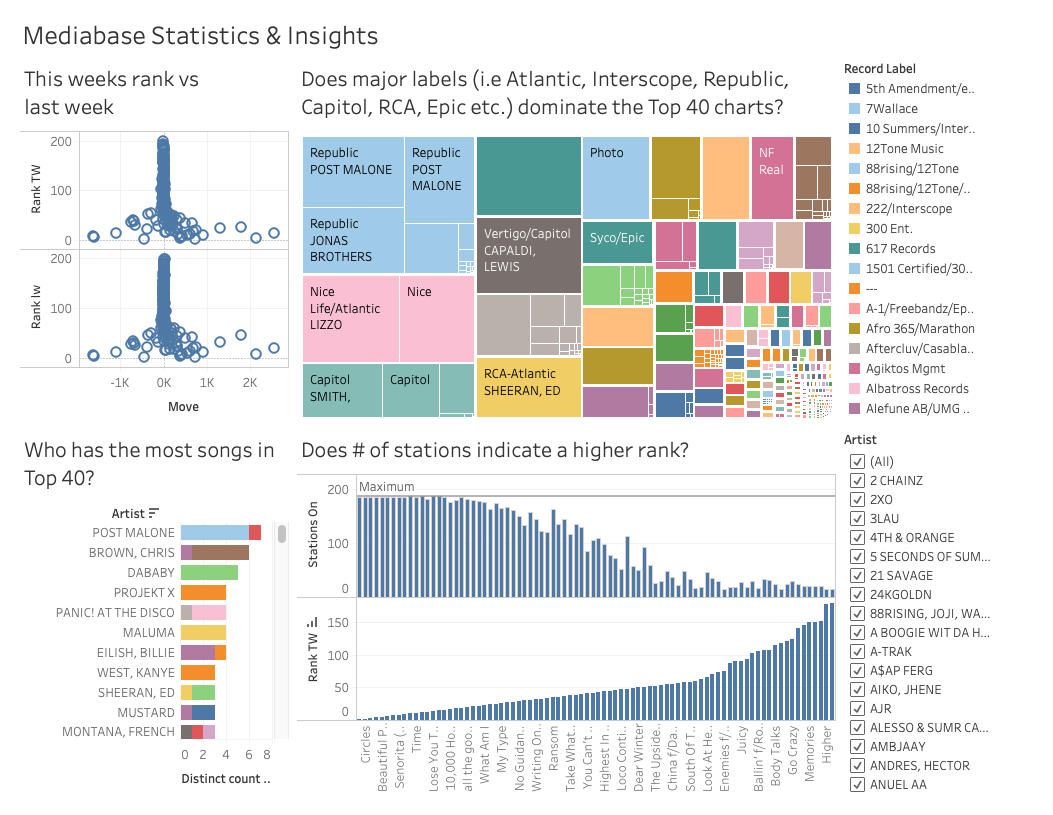

Layout of this report page (visuals, bound fields, positions):
{"tool":"tableau","page":{"name":"Dashboard 1","canvas":[1000,800],"ordinal":0},"visuals":[{"type":"worksheet","box":[0,0,1000,800]},{"type":"worksheet","param":"vert","box":[8,8,984,784]},{"type":"worksheet","box":[8,8,984,42]},{"type":"worksheet","param":"horz","box":[8,50,984,742]},{"type":"worksheet","box":[8,50,824,742]},{"type":"worksheet","title":"Sheet 1","mark":"Automatic","rows":["Rank TW","Rank lw"],"cols":["Move"],"box":[8,50,277,371]},{"type":"worksheet","title":"Sheet 5","mark":"Square","box":[285,50,547,371]},{"type":"worksheet","param":"vert","box":[832,50,160,742]},{"type":"worksheet","title":"Sheet 5","mark":"Square","param":"[federated.0wviove1pnvzdi18t1mbn1lcefj2].[none:Label:nk]","box":[832,50,160,371]},{"type":"worksheet","title":"Sheet 3","mark":"Automatic","rows":["Artist"],"cols":["Title"],"box":[8,421,277,371]},{"type":"worksheet","title":"Sheet 4","mark":"Automatic","rows":["StationsOn","Rank TW"],"cols":["Title"],"box":[285,421,547,371]},{"type":"worksheet","title":"Sheet 3","mark":"Automatic","rows":["Artist"],"cols":["Title"],"param":"[federated.0wviove1pnvzdi18t1mbn1lcefj2].[none:Artist:nk]","box":[832,421,160,371]}]}

Visuals, with their boxes on the page's 1000x800 design canvas (x1, y1, x2, y2). These are canvas units, not pixel positions in the 1053x815 screenshot, which may show the page scaled, cropped or inside an application window:
worksheet: bbox=(0, 0, 1000, 800)
worksheet: bbox=(8, 8, 992, 792)
worksheet: bbox=(8, 8, 992, 50)
worksheet: bbox=(8, 50, 992, 792)
worksheet: bbox=(8, 50, 832, 792)
"Sheet 1" worksheet: bbox=(8, 50, 285, 421)
"Sheet 5" worksheet (Square marks): bbox=(285, 50, 832, 421)
worksheet: bbox=(832, 50, 992, 792)
"Sheet 5" worksheet (Square marks): bbox=(832, 50, 992, 421)
"Sheet 3" worksheet: bbox=(8, 421, 285, 792)
"Sheet 4" worksheet: bbox=(285, 421, 832, 792)
"Sheet 3" worksheet: bbox=(832, 421, 992, 792)
